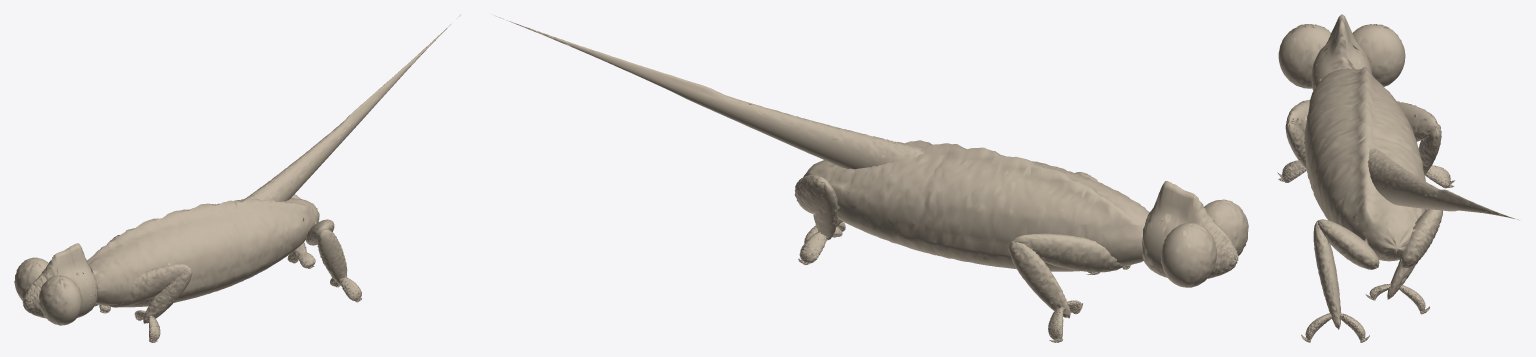
The model's file is 3dcodebench_Chameleon_seed0.glb.
3 views of the same model, side by side, from view 1: azimuth 30°, elevation 25°; view 2: azimuth 150°, elevation 25°; view 3: azimuth 270°, elevation 25° (orthographic). The views are drawn at different scales.
Parts seen in each view (by area): view 1: object; view 2: object; view 3: object.
Boxes of the visible parts, x1,y1,x2,y2 form: object: (14,15,460,342); object: (494,15,1248,342); object: (1277,14,1519,342).
Bounding box in the file's own units: 3.16 × 1.09 × 1.01.
